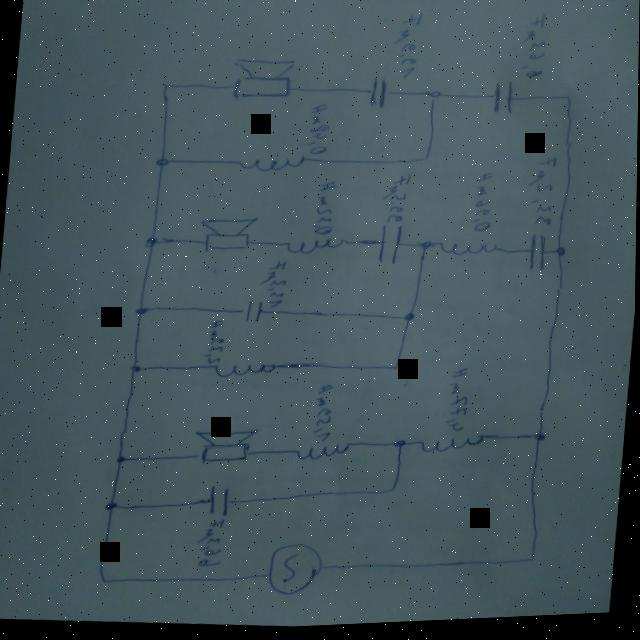capacitor: (376, 225, 403, 270), (489, 83, 514, 120), (527, 237, 548, 278), (208, 486, 230, 520), (368, 80, 388, 114), (243, 299, 263, 329)
inductor: (415, 434, 489, 462), (233, 151, 306, 179), (282, 236, 347, 261), (293, 441, 353, 467), (436, 241, 499, 264), (213, 363, 278, 383)
junction: (549, 248, 570, 266), (153, 155, 172, 172), (421, 93, 442, 108), (388, 441, 410, 455), (530, 434, 548, 450), (400, 313, 417, 329), (144, 234, 159, 251), (133, 305, 149, 319), (414, 156, 434, 167), (103, 500, 119, 513), (383, 488, 400, 500), (114, 453, 128, 467), (415, 244, 432, 255), (127, 364, 142, 376), (100, 575, 113, 588), (525, 557, 540, 568), (387, 365, 402, 376), (560, 97, 575, 108), (159, 81, 172, 93)
source: (266, 543, 329, 602)
text: (524, 159, 558, 232), (388, 14, 422, 84), (516, 15, 548, 85), (379, 175, 413, 228), (310, 182, 339, 239), (446, 370, 471, 436), (257, 261, 289, 312), (196, 518, 227, 570), (469, 175, 495, 237), (312, 387, 336, 446), (305, 105, 331, 159), (204, 319, 226, 367)
